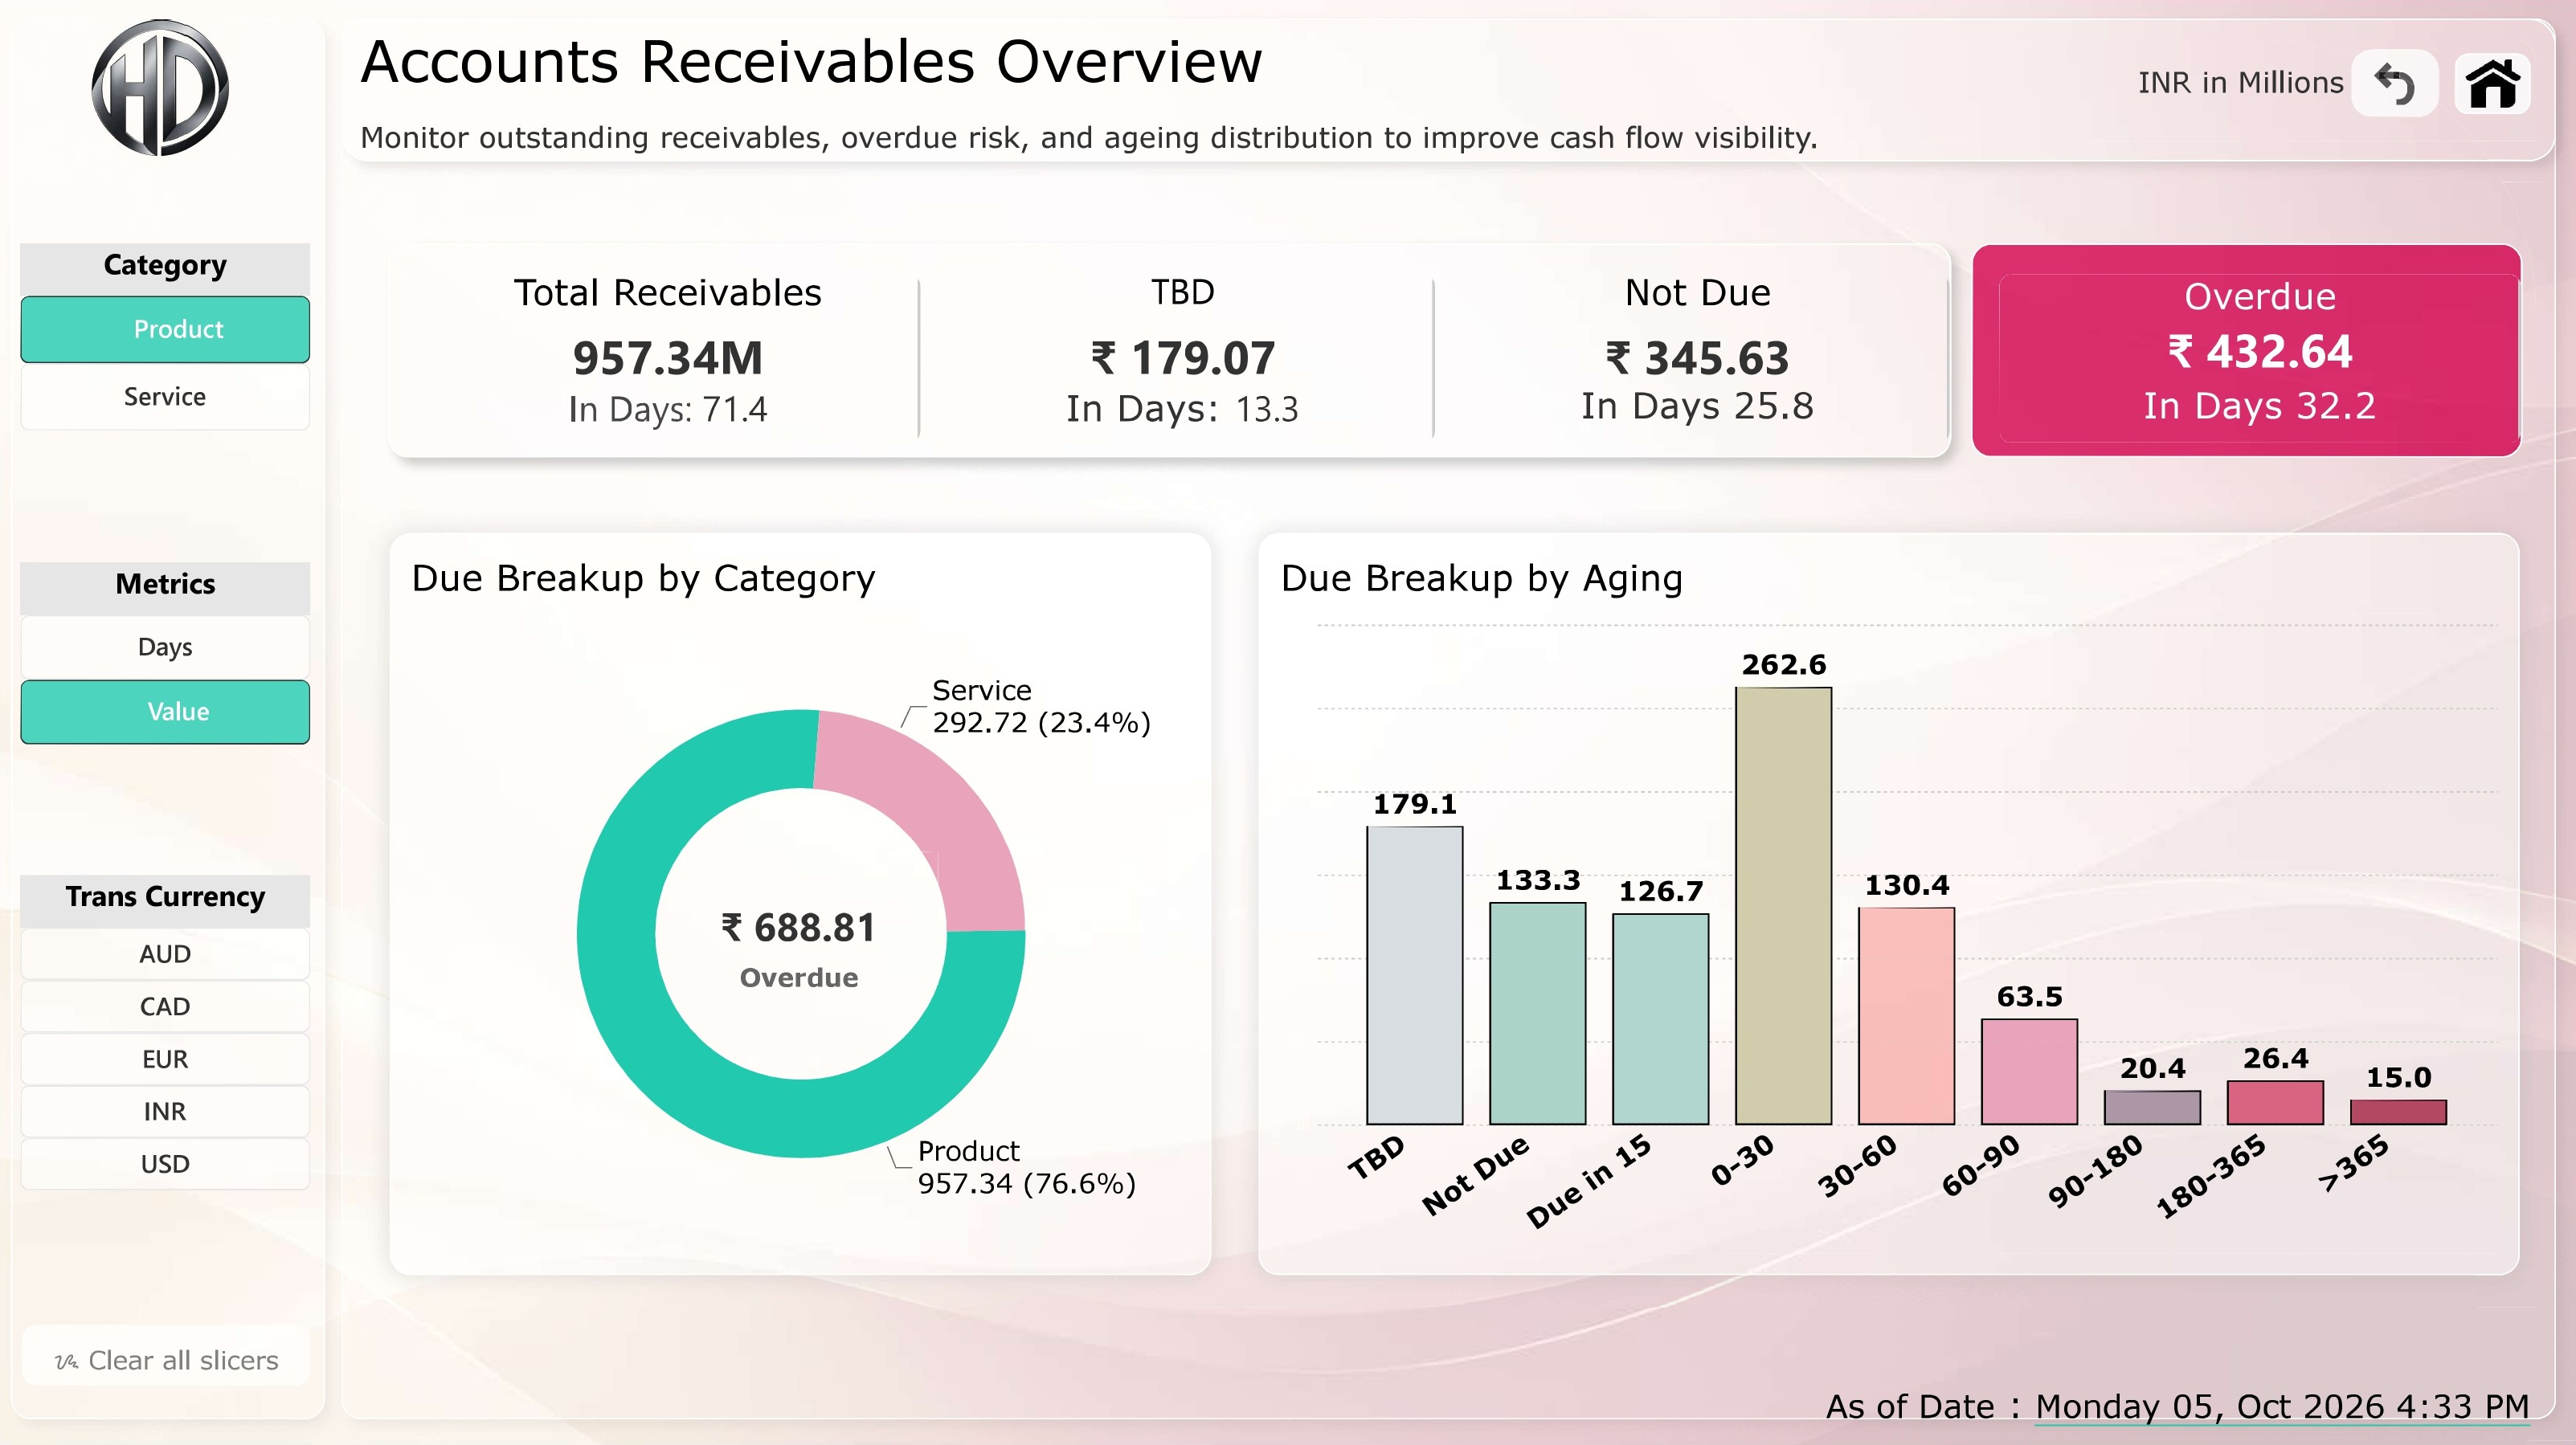

What the dashboard file says about the page in this screenshot:
{"tool":"powerbi","page":{"name":"Receivable Overview","canvas":[1920,1080],"ordinal":1},"visuals":[{"type":"shape","title":"Head bg","box":[256,20,1644,1040],"z":0},{"type":"shape","title":"Head bg","box":[256,20,1644,106],"z":1000},{"type":"shape","box":[11.1,20.3,232.7,1039.6],"z":2000},{"type":"textbox","box":[270,24,1330,130],"z":3000},{"type":"image","box":[1809.5,30.9,86,75],"z":4000},{"type":"actionButton","box":[1747.5,42.9,65,50],"z":5000},{"type":"donutChart","title":"Due Breakup by Category","fields":{"Category":["Base file.Category"],"Y":["Receivables Aging Measure.Total Receivables"]},"box":[292.2,402.4,609.5,551],"z":6000},{"type":"clusteredColumnChart","title":"Due Breakup by Aging ","fields":{"Category":["Base file.Aging_Bucket"],"Y":["Receivables Aging Measure.Total Receivables"]},"box":[936.7,402.4,936.7,551],"z":7000},{"type":"advancedSlicerVisual","fields":{"Values":["MetricsSwitch.Measure"]},"box":[18.4,423.6,215,136],"z":8000},{"type":"textbox","box":[1575.5,34.9,188,54],"z":9000},{"type":"advancedSlicerVisual","fields":{"Values":["Base file.Category"]},"box":[18.4,187.1,215,140],"z":10000},{"type":"cardVisual","title":"Overdue","fields":{"Data":["Receivables Aging Measure.Total_Overdue"]},"box":[493,638.9,206.3,137.5],"z":11000},{"type":"advancedSlicerVisual","fields":{"Values":["Base file.Transaction Currency"]},"box":[18.4,656,215,238],"z":12000},{"type":"textbox","box":[1358.3,1012.5,536,54],"z":13000},{"type":"cardVisual","title":"Total Receivables","fields":{"Data":["Sum(Base file.Adjusted Receivables)","Receivables Aging Measure.Total_TBD","Receivables Aging Measure.Total_Not Due"]},"box":[290.5,187,1160.5,158.6],"z":14000},{"type":"cardVisual","title":"Total Receivables","fields":{"Data":["Receivables Aging Measure.Total_Overdue"]},"box":[1466.1,187,409.1,158.6],"z":15000},{"type":"image","box":[0,0,244,141.2],"z":16000},{"type":"actionButton","box":[18.6,990.5,214.6,45],"z":17000}]}

Visuals, with their boxes in screenshot pixels (x1, y1, x2, y2), scaled from the page's 1920x1080 canvas onto the 2576x1445 screenshot:
"Head bg" shape: 343,27,2549,1418
"Head bg" shape: 343,27,2549,169
shape: 15,27,327,1418
textbox: 362,32,2147,206
image: 2427,41,2543,141
actionButton: 2345,57,2431,124
"Due Breakup by Category" donutChart: 392,538,1210,1276
"Due Breakup by Aging " clusteredColumnChart: 1257,538,2513,1276
advancedSlicerVisual - MetricsSwitch.Measure: 25,567,313,749
textbox: 2114,47,2366,119
advancedSlicerVisual - Base file.Category: 25,251,313,438
"Overdue" cardVisual: 661,855,938,1039
advancedSlicerVisual - Base file.Transaction Currency: 25,878,313,1196
textbox: 1822,1355,2541,1427
"Total Receivables" cardVisual: 390,250,1947,463
"Total Receivables" cardVisual: 1967,250,2516,463
image: 0,0,327,189
actionButton: 25,1325,313,1386
